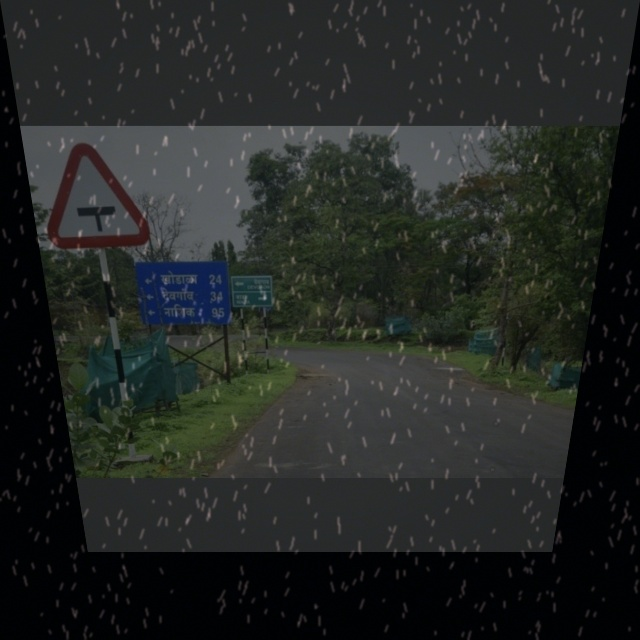T_Intersection: (37, 140, 154, 247)
